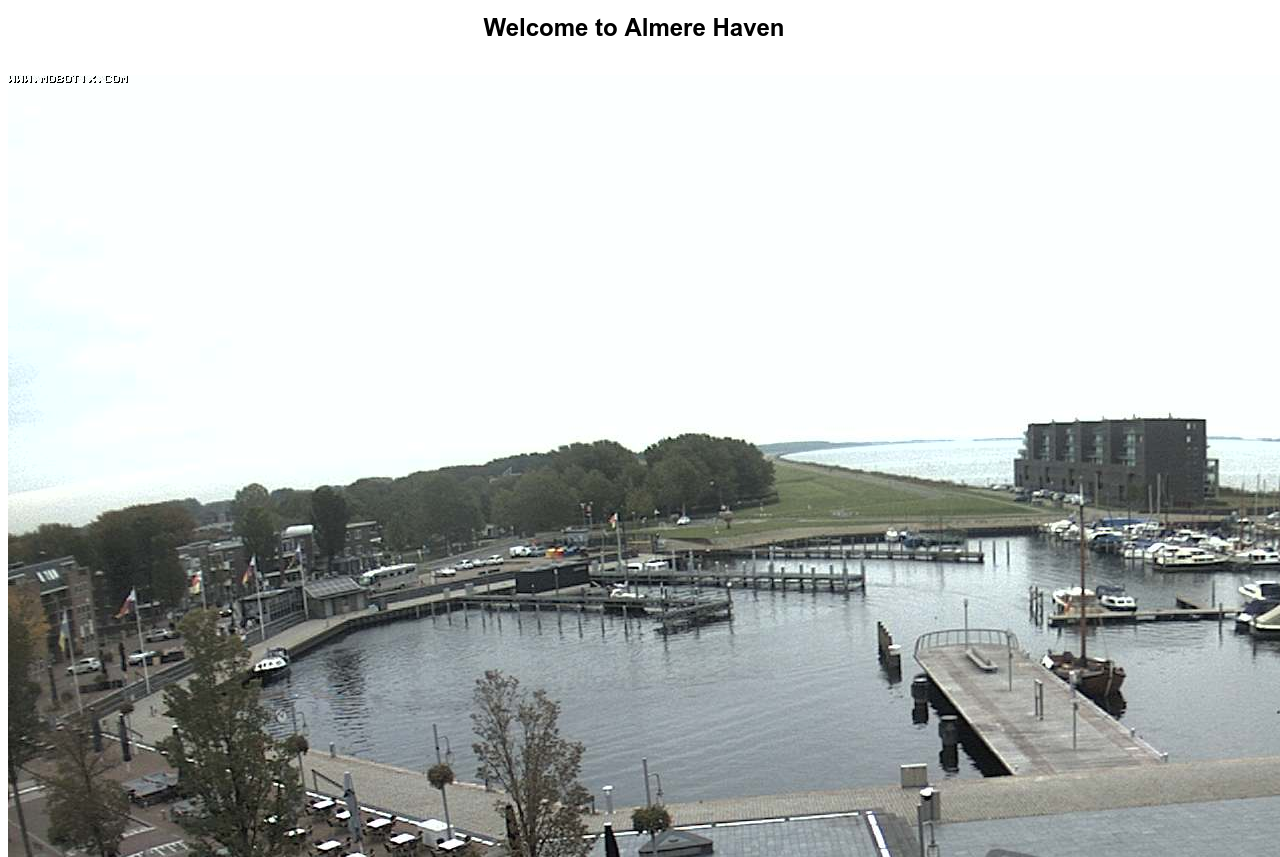maybe: (52, 605, 77, 651), (240, 556, 258, 589), (118, 587, 135, 616), (188, 570, 205, 592), (290, 541, 301, 565)
